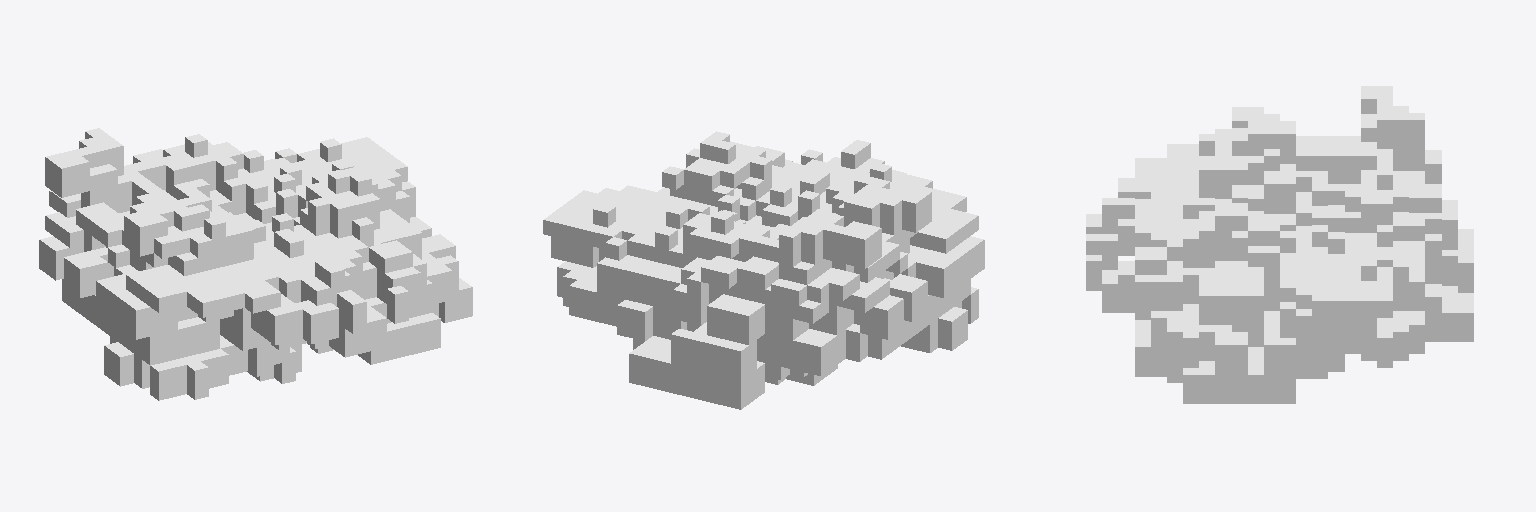
File: start_end-22.obj
3 views of the same model, side by side, from view 1: azimuth 30°, elevation 25°; view 2: azimuth 150°, elevation 25°; view 3: azimuth 270°, elevation 25° (orthographic).
Visible parts, largest first — view 1: object 1; view 2: object 1; view 3: object 1.
Part boxes in pixels (x1,y1,x2,y2): object 1: (39,128,472,400); object 1: (543,131,984,409); object 1: (1086,86,1473,403).
Size of the model in its own units: 2.4 by 1.3 by 2.4.